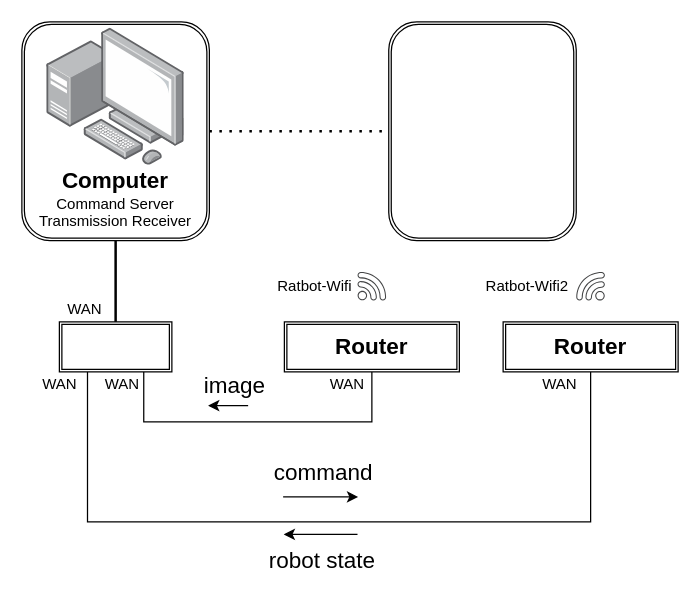
The diagram is 700 pixels wide and 595 high, and some of its shapes have lost their labels. The box of each missing label's shape, as (x1, y1, x2, y2) in pixels:
Smuro Command Client Transmission Sender: (388, 21, 576, 241)
Switch: (58, 321, 172, 372)
